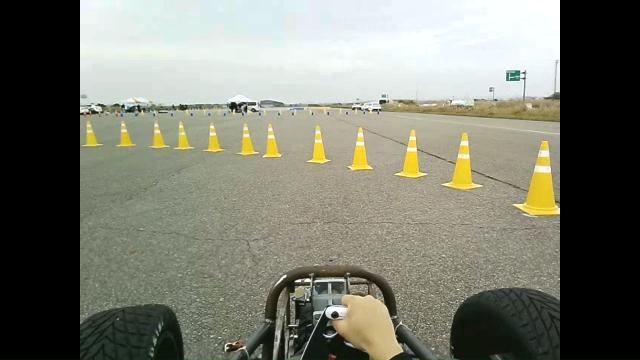yellow cone: (512, 140, 560, 216), (441, 132, 483, 190), (394, 128, 427, 178), (347, 126, 374, 171), (306, 124, 331, 164), (236, 122, 259, 155), (262, 122, 282, 158), (203, 121, 225, 152), (173, 120, 194, 150), (82, 119, 103, 147), (149, 120, 169, 149), (116, 119, 136, 147)
